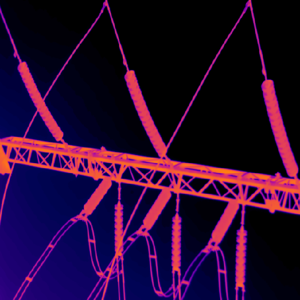insulator: (123, 65, 168, 158), (17, 58, 64, 141), (262, 76, 298, 178), (210, 196, 240, 243), (140, 186, 171, 228), (82, 175, 112, 216), (232, 225, 246, 285), (113, 199, 123, 256), (171, 213, 180, 272)
